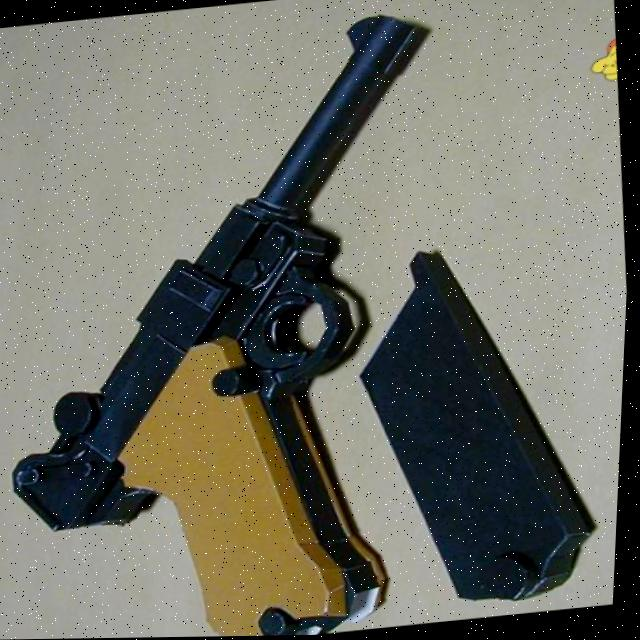firearm: (0, 8, 480, 640)
